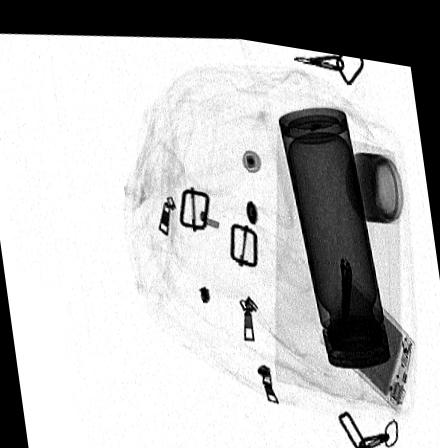Powerbank: (320, 260, 417, 400)
